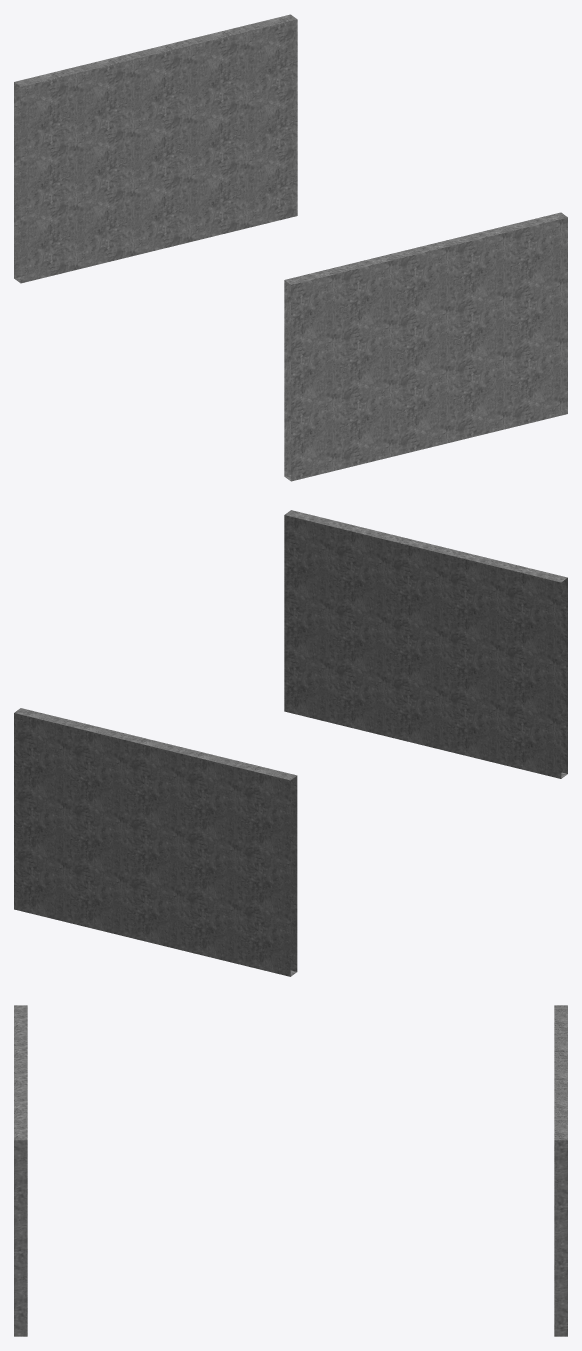
File: Texture_Wall_Entrance.FBX
3 views of the same model, one above another, from view 1: azimuth 30°, elevation 25°; view 2: azimuth 150°, elevation 25°; view 3: azimuth 270°, elevation 25° (orthographic).
Parts seen in each view (by area): view 1: Texture_Wall_Entrance; view 2: Texture_Wall_Entrance; view 3: Texture_Wall_Entrance.
Boxes of the visible parts, left/top/right/bottom form: Texture_Wall_Entrance: left=14, top=14, right=567, bottom=481; Texture_Wall_Entrance: left=14, top=510, right=567, bottom=976; Texture_Wall_Entrance: left=14, top=1005, right=567, bottom=1336.
Size of the model in its own units: 377 by 256 by 654.
